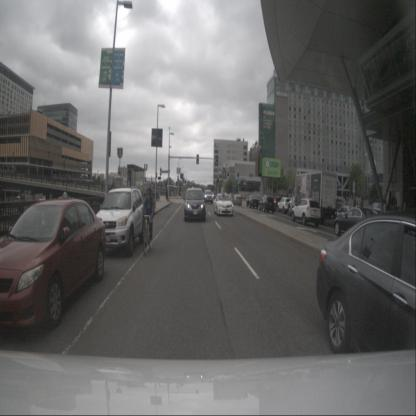human-pedestrian-adult: (403, 203, 407, 224), (398, 204, 402, 224), (356, 202, 360, 221), (360, 201, 363, 221), (391, 205, 393, 220), (353, 200, 356, 210), (361, 195, 364, 204), (166, 190, 168, 201), (395, 197, 397, 207), (54, 175, 56, 185), (394, 197, 396, 207), (344, 197, 346, 206), (348, 197, 349, 206)
vehicle-bicycle: (140, 185, 156, 257)
vehicle-car: (0, 192, 107, 334), (316, 211, 416, 359), (91, 187, 148, 257), (334, 206, 381, 240), (291, 198, 321, 226), (184, 188, 206, 221), (214, 193, 233, 217), (334, 207, 353, 226), (259, 194, 275, 214), (277, 197, 292, 213), (246, 196, 260, 210), (270, 195, 281, 210), (204, 189, 214, 204), (233, 194, 242, 206), (229, 193, 236, 201)
vehicle-truck: (288, 171, 338, 227)
